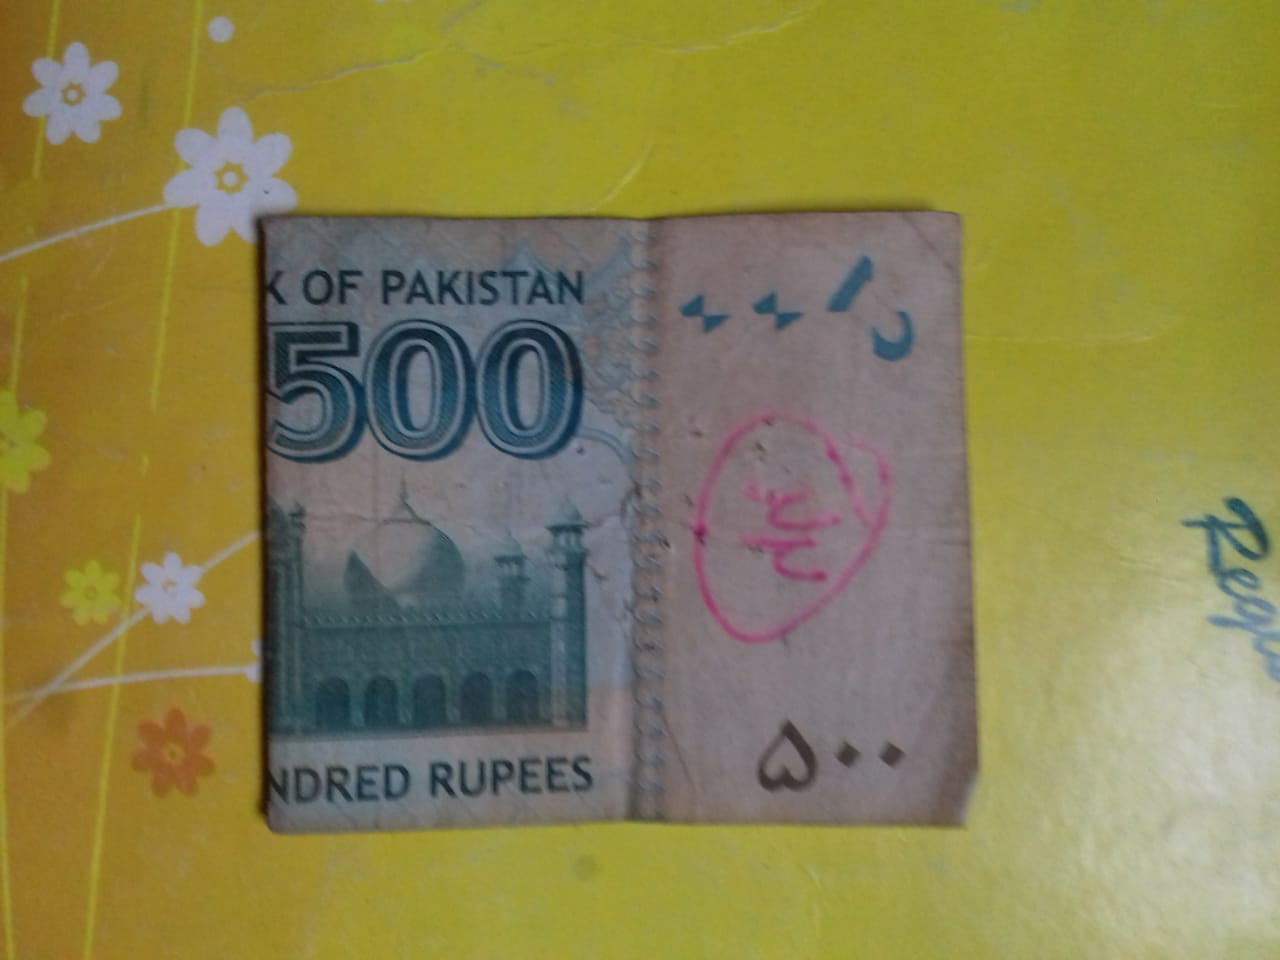500 rupee: (242, 179, 975, 868)
